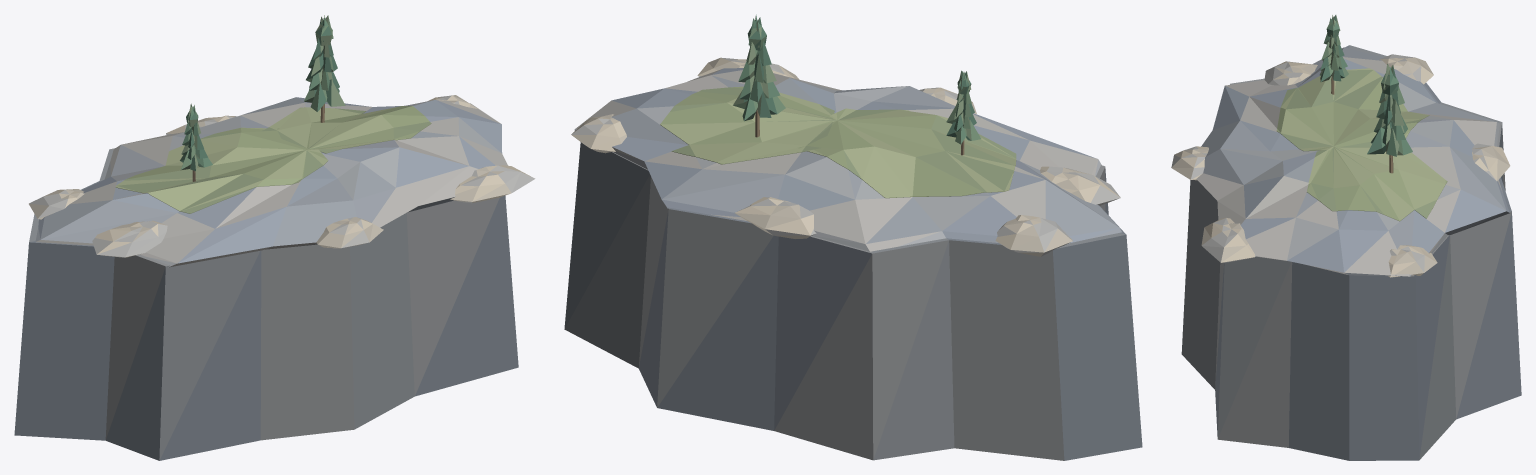
Rendered from island_near_left.glb.
3 renders of one model, left to right at view 1: azimuth 30°, elevation 25°; view 2: azimuth 150°, elevation 25°; view 3: azimuth 270°, elevation 25°, orthographic. The views are drawn at different scales.
Parts seen in each view (by area): view 1: island_near_left_rockroot, island_near_left_shoulder, island_near_left_grasscap_west, island_near_left_grasscap_east, island_near_left_wetshore_03, island_near_left_wetshore_05, island_near_left_wetshore_04, island_near_left_wetshore_02, island_near_left_pine_02_crown_tier_00; view 2: island_near_left_rockroot, island_near_left_shoulder, island_near_left_grasscap_west, island_near_left_grasscap_east, island_near_left_wetshore_01, island_near_left_wetshore_02, island_near_left_wetshore_03, island_near_left_wetshore_00, island_near_left_pine_02_crown_tier_00, island_near_left_wetshore_05, island_near_left_pine_02_crown_tier_01, island_near_left_pine_02_crown_tier_02; view 3: island_near_left_rockroot, island_near_left_shoulder, island_near_left_grasscap_east, island_near_left_grasscap_west, island_near_left_wetshore_05, island_near_left_wetshore_00, island_near_left_wetshore_01, island_near_left_wetshore_03, island_near_left_wetshore_04, island_near_left_wetshore_02, island_near_left_pine_02_crown_tier_00, island_near_left_pine_02_crown_tier_02 (+1 smaller).
Part boxes in pixels (x1,y1,x2,y2): island_near_left_rockroot: (14,148,518,460); island_near_left_shoulder: (35,97,507,267); island_near_left_grasscap_west: (115,127,328,213); island_near_left_grasscap_east: (261,106,431,153); island_near_left_wetshore_03: (92,220,167,257); island_near_left_wetshore_05: (450,165,535,203); island_near_left_wetshore_04: (316,217,383,248); island_near_left_wetshore_02: (29,189,84,219); island_near_left_pine_02_crown_tier_00: (304,79,345,111); island_near_left_rockroot: (564,142,1142,460); island_near_left_shoulder: (574,68,1121,251); island_near_left_grasscap_west: (795,108,1016,198); island_near_left_grasscap_east: (660,86,834,164); island_near_left_wetshore_01: (735,197,816,238); island_near_left_wetshore_02: (995,215,1072,256); island_near_left_wetshore_03: (1040,166,1120,205); island_near_left_wetshore_00: (571,114,626,153); island_near_left_pine_02_crown_tier_00: (733,90,785,121); island_near_left_wetshore_05: (697,57,798,79); island_near_left_pine_02_crown_tier_01: (739,75,780,102); island_near_left_pine_02_crown_tier_02: (738,53,776,83); island_near_left_rockroot: (1181,45,1521,460); island_near_left_shoulder: (1196,47,1509,276); island_near_left_grasscap_east: (1307,141,1447,221); island_near_left_grasscap_west: (1276,68,1429,151); island_near_left_wetshore_05: (1201,217,1255,262); island_near_left_wetshore_00: (1388,245,1437,277); island_near_left_wetshore_01: (1472,143,1510,181); island_near_left_wetshore_03: (1264,61,1317,85); island_near_left_wetshore_04: (1171,146,1208,180); island_near_left_wetshore_02: (1379,54,1433,84); island_near_left_pine_02_crown_tier_00: (1367,127,1412,156); island_near_left_pine_02_crown_tier_02: (1376,99,1404,125).
Bounding box in the file's own units: 68.67 × 43.63 × 41.84.
